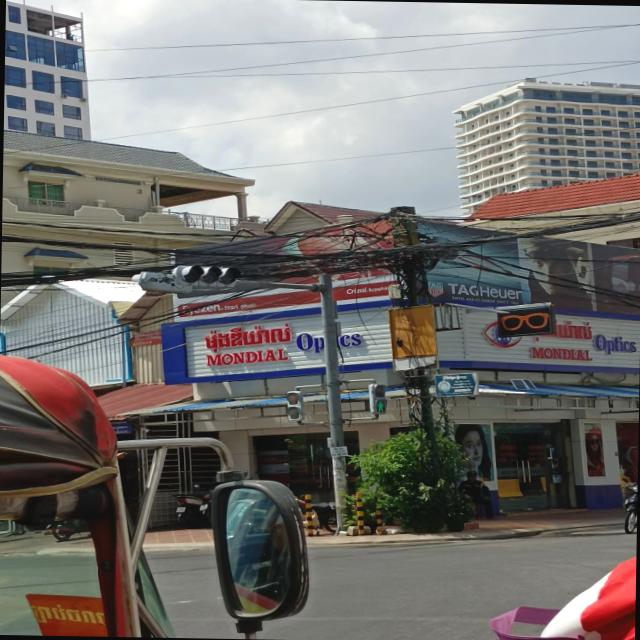Yolov11_80vkh: (202, 319, 296, 355)
